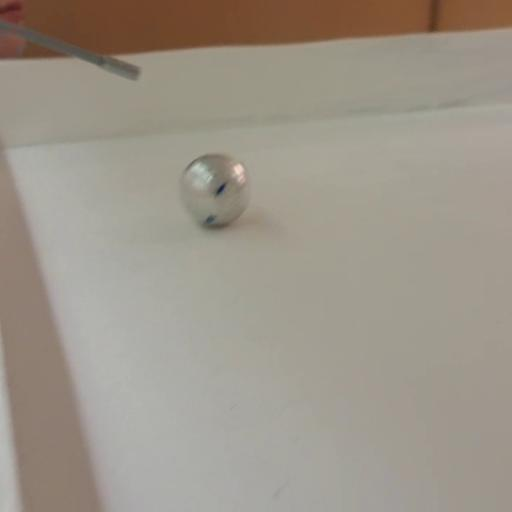alive: (177, 150, 253, 229)
